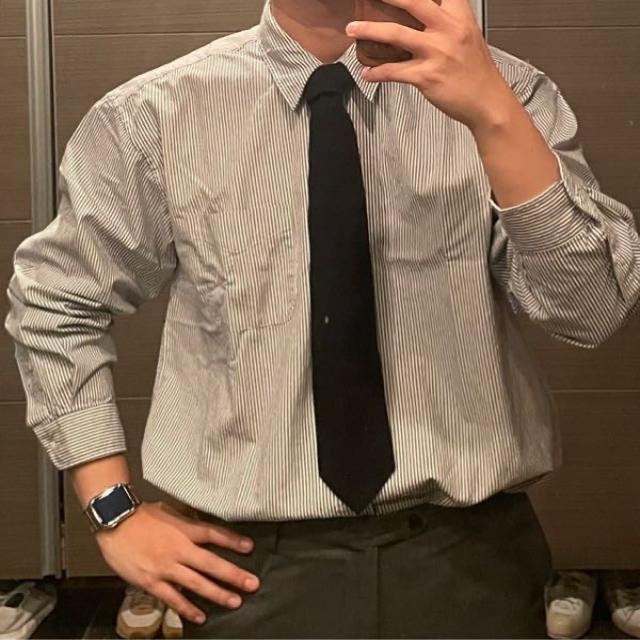shirt: (6, 0, 640, 527)
